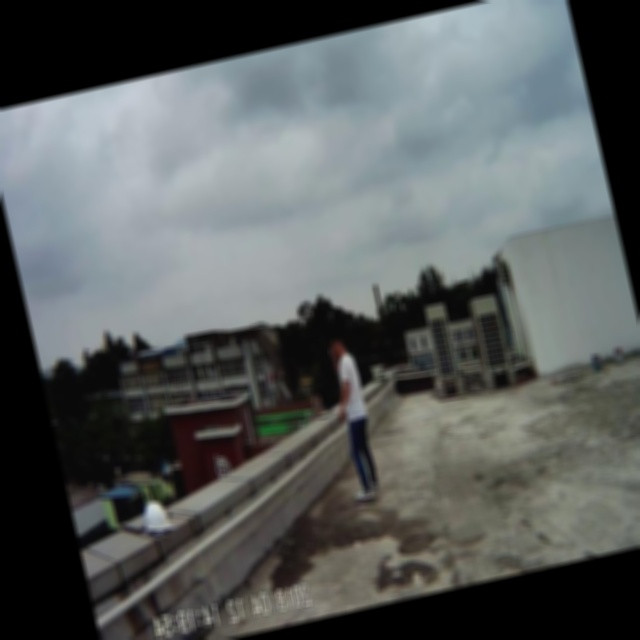Sin_Chaleco: (333, 354, 371, 422)
